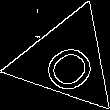O_NE: (32, 27, 102, 94)
